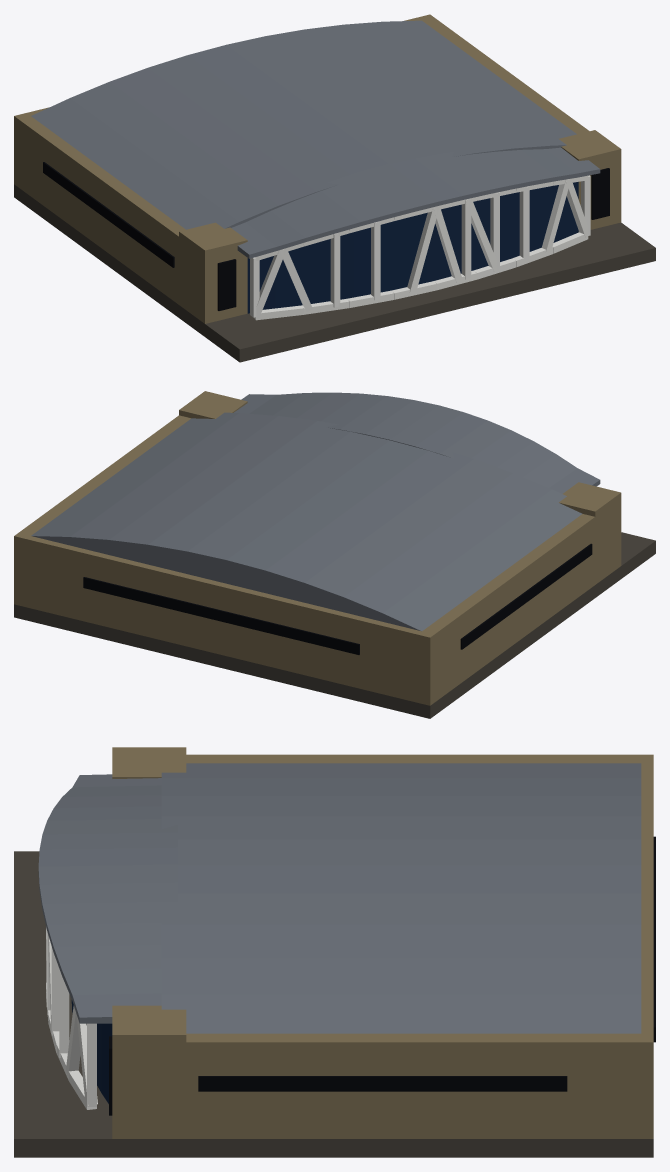
Rendered from atl-state-farm-arena.glb.
The picture shows the model from 3 angles, top to bottom: view 1: azimuth 30°, elevation 25°; view 2: azimuth 150°, elevation 25°; view 3: azimuth 270°, elevation 25°; orthographic projection. The views are drawn at different scales.
Parts seen in each view (by area): view 1: arena-shell, arena-letters; view 2: arena-shell; view 3: arena-shell, arena-letters.
Part boxes in pixels (x1,y1,x2,y2): arena-shell: [14, 14, 655, 362]; arena-letters: [250, 175, 590, 320]; arena-shell: [14, 391, 655, 718]; arena-shell: [14, 747, 655, 1157]; arena-letters: [46, 927, 97, 1109].
Size of the model in its own units: 167 by 40.2 by 157.
